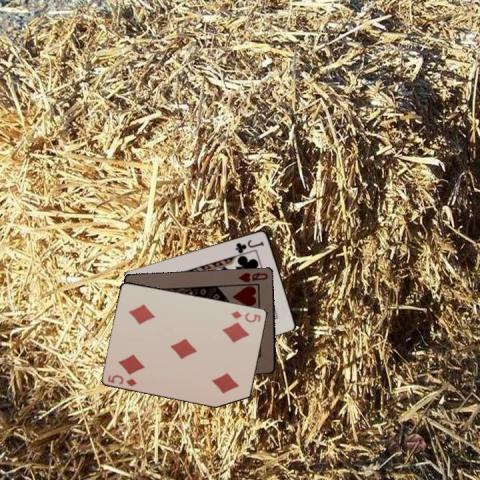5d: (105, 372, 139, 388), (228, 308, 262, 323)
Jc: (232, 237, 264, 253)
Qh: (236, 270, 270, 284)
